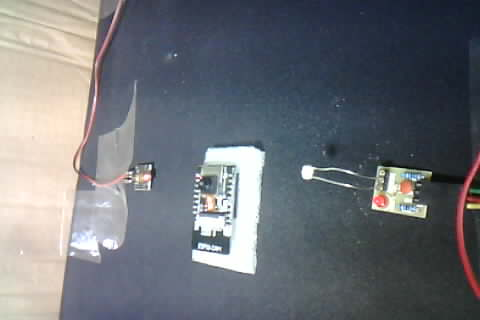esp32: (186, 143, 261, 269)
